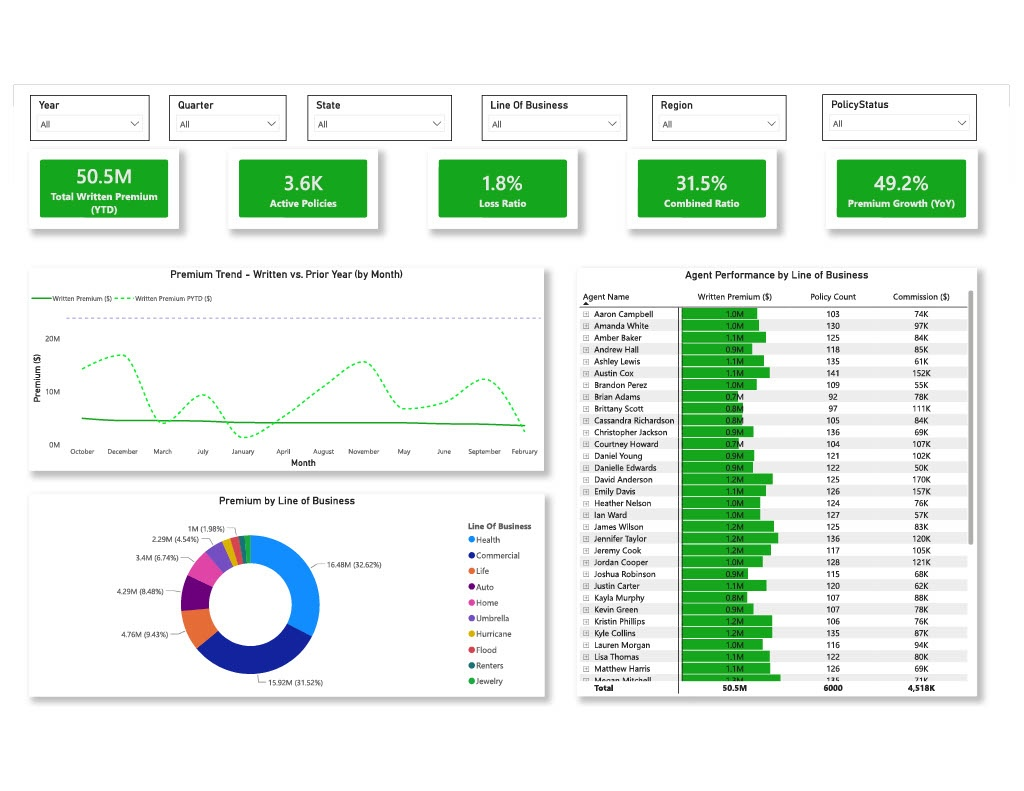

The dashboard page shown, as its layout file describes it:
{"tool":"powerbi","page":{"name":"Executive Summary & Sales Performance","canvas":[1600,1000],"ordinal":0},"visuals":[{"type":"cardVisual","fields":{"Data":["_Measures.Total Written Premium"]},"box":[25,103.3,240,127.5],"z":0},{"type":"cardVisual","fields":{"Data":["_Measures.Active Policy Count"]},"box":[345.2,103.3,240,127.5],"z":1000},{"type":"cardVisual","fields":{"Data":["_Measures.Loss Ratio"]},"box":[665.5,103.3,240,127.5],"z":2000},{"type":"cardVisual","fields":{"Data":["_Measures.Combined Ratio"]},"box":[985.8,103.3,240,127.5],"z":3000},{"type":"cardVisual","fields":{"Data":["_Measures.Written Premium YoY % Change"]},"box":[1306,103.3,242.5,127.5],"z":4000},{"type":"lineChart","title":"Premium Trend - Written vs. Prior Year (by Month)","fields":{"Category":["Date.Month Name"],"Y":["_Measures.Total Written Premium","_Measures.Written Premium PYTD"]},"box":[24,294,828,326],"z":5000},{"type":"pivotTable","title":"Agent Performance by Line of Business","fields":{"Rows":["Agents.AgentName","Policies.LineOfBusiness"],"Values":["_Measures.Total Written Premium","_Measures.Policy Count","_Measures.Agent Commission Earned"]},"box":[905,295,642.5,687.5],"z":6000},{"type":"donutChart","title":"Premium by Line of Business","fields":{"Category":["Policies.LineOfBusiness"],"Y":["_Measures.Total Written Premium"]},"box":[25,657.5,827.5,325],"z":7000},{"type":"slicer","fields":{"Values":["Date.Year"]},"box":[26,16,192,74],"z":8000},{"type":"slicer","fields":{"Values":["Date.Quarter"]},"box":[250,16,188,74],"z":9000},{"type":"slicer","fields":{"Values":["Customers.State"]},"box":[472,16,232,74],"z":10000},{"type":"slicer","fields":{"Values":["Policies.LineOfBusiness"]},"box":[752,16,234,74],"z":11000},{"type":"slicer","fields":{"Values":["Agents.Region"]},"box":[1026,16,216,74],"z":12000},{"type":"slicer","fields":{"Values":["Policies.PolicyStatus"]},"box":[1300,15,247.5,75],"z":13000}]}

Visuals, with their boxes on the page's 1600x1000 design canvas (x1, y1, x2, y2). These are canvas units, not pixel positions in the 1024x791 screenshot, which may show the page scaled, cropped or inside an application window:
cardVisual - _Measures.Total Written Premium: box(25, 103, 265, 231)
cardVisual - _Measures.Active Policy Count: box(345, 103, 585, 231)
cardVisual - _Measures.Loss Ratio: box(666, 103, 906, 231)
cardVisual - _Measures.Combined Ratio: box(986, 103, 1226, 231)
cardVisual - _Measures.Written Premium YoY % Change: box(1306, 103, 1548, 231)
"Premium Trend - Written vs. Prior Year (by Month)" lineChart: box(24, 294, 852, 620)
"Agent Performance by Line of Business" pivotTable: box(905, 295, 1548, 982)
"Premium by Line of Business" donutChart: box(25, 658, 852, 982)
slicer - Date.Year: box(26, 16, 218, 90)
slicer - Date.Quarter: box(250, 16, 438, 90)
slicer - Customers.State: box(472, 16, 704, 90)
slicer - Policies.LineOfBusiness: box(752, 16, 986, 90)
slicer - Agents.Region: box(1026, 16, 1242, 90)
slicer - Policies.PolicyStatus: box(1300, 15, 1548, 90)
